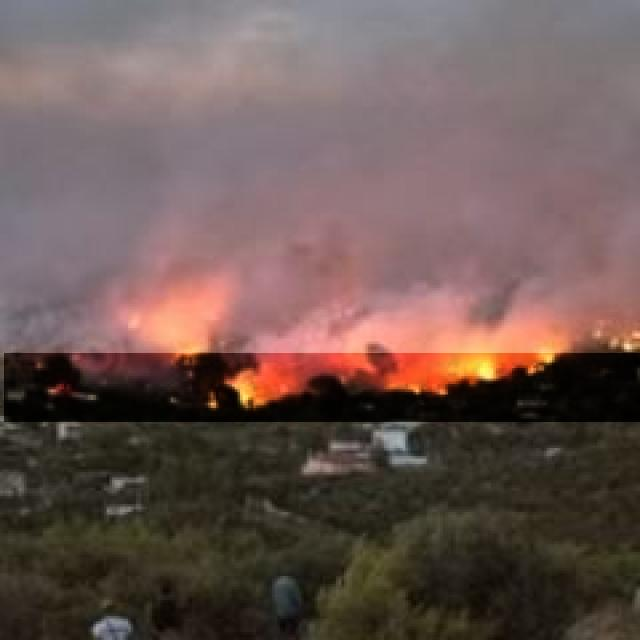Fire: (4, 268, 640, 422)
Smoke: (0, 0, 640, 353)
